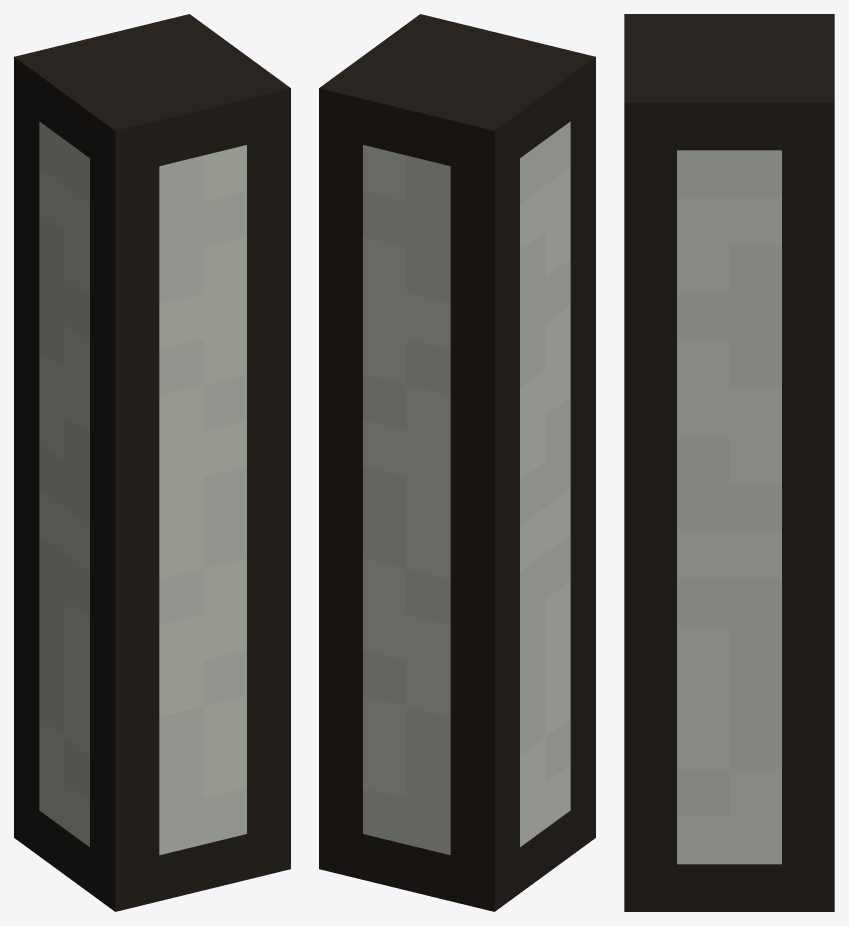
Rendered from tavern-44-wall_tudorpillaflatr.obj.
3 renders of one model, left to right at view 1: azimuth 30°, elevation 25°; view 2: azimuth 150°, elevation 25°; view 3: azimuth 270°, elevation 25°, orthographic. The views are drawn at different scales.
Visible parts, largest first — view 1: wall_tudorpillaflatr; view 2: wall_tudorpillaflatr; view 3: wall_tudorpillaflatr.
Part boxes in pixels (<box>): wall_tudorpillaflatr: <box>14,14,290,911</box>; wall_tudorpillaflatr: <box>319,14,595,911</box>; wall_tudorpillaflatr: <box>624,14,834,911</box>.
Size of the model in its own units: 0.4 by 1.7 by 0.4.
1 material, 1 textured.
